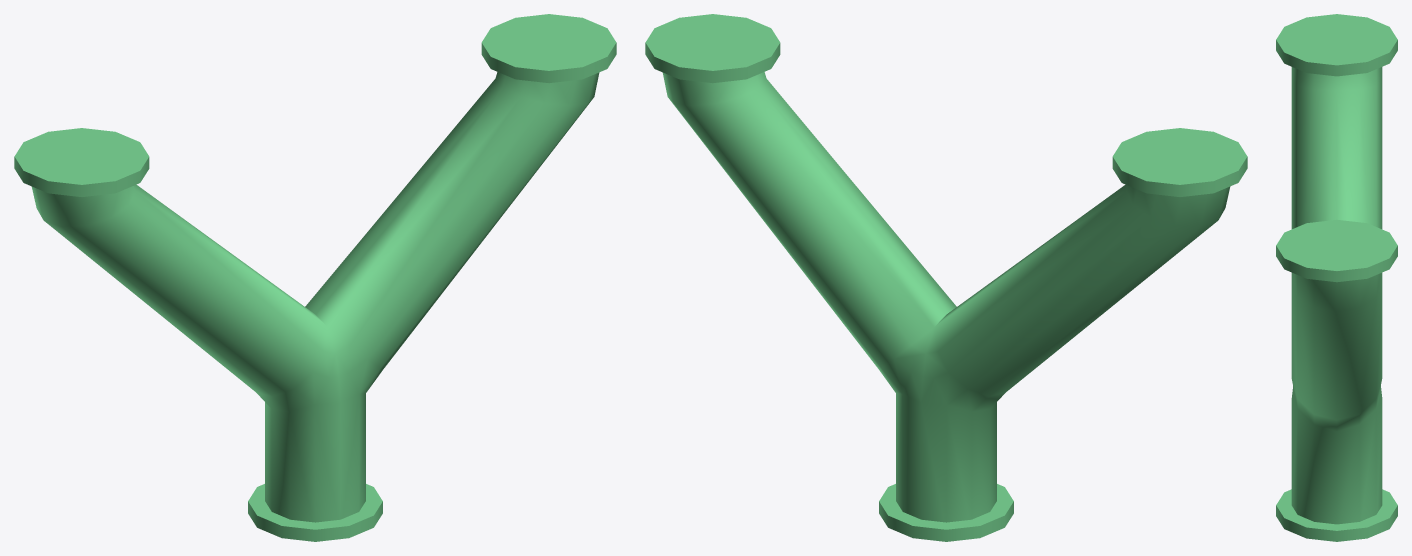
File: Pipe_Basic_3Way_Large.fbx
3 views of the same model, side by side, from view 1: azimuth 30°, elevation 25°; view 2: azimuth 150°, elevation 25°; view 3: azimuth 270°, elevation 25° (orthographic). The views are drawn at different scales.
Visible parts, largest first — view 1: Pipe_Basic_3Way_Large; view 2: Pipe_Basic_3Way_Large; view 3: Pipe_Basic_3Way_Large.
Part boxes in pixels (left/top/right/bottom): Pipe_Basic_3Way_Large: left=14, top=14, right=616, bottom=541; Pipe_Basic_3Way_Large: left=645, top=14, right=1247, bottom=541; Pipe_Basic_3Way_Large: left=1276, top=14, right=1397, bottom=541.
Bounding box in the file's own units: 375 × 254 × 75.
